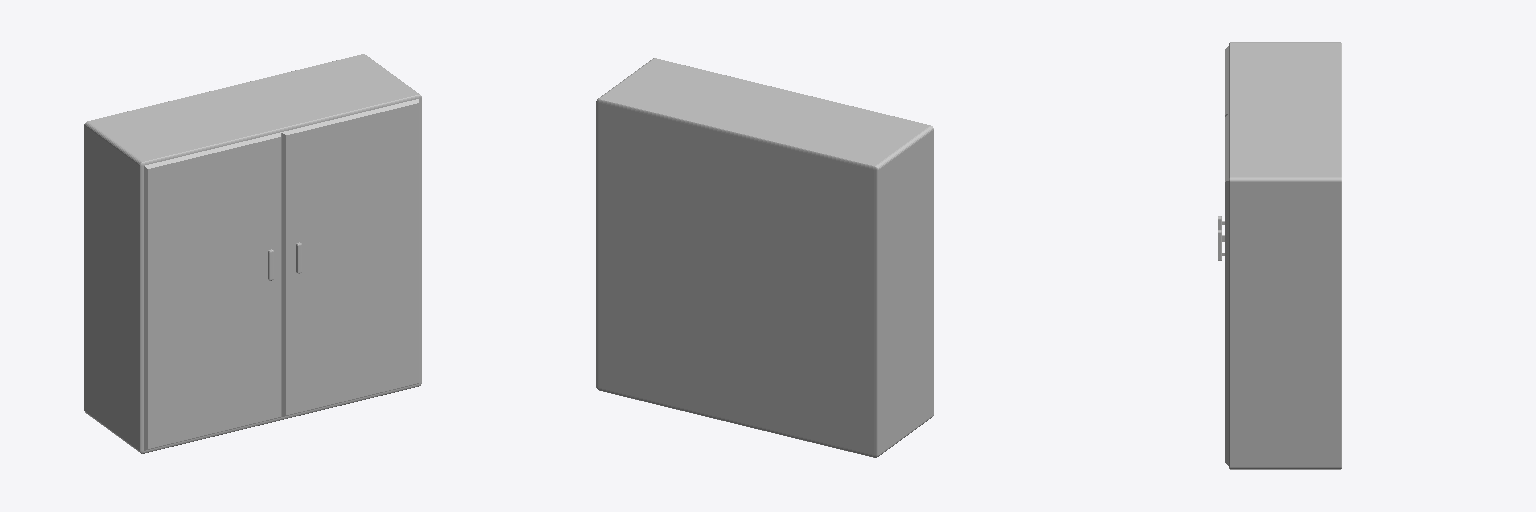
File: shortcupboard.obj
3 views of the same model, side by side, from view 1: azimuth 30°, elevation 25°; view 2: azimuth 150°, elevation 25°; view 3: azimuth 270°, elevation 25° (orthographic).
Parts seen in each view (by area): view 1: 立方体.035; view 2: 立方体.035; view 3: 立方体.035.
Boxes of the visible parts, x1,y1,x2,y2 form: 立方体.035: [84, 54, 421, 453]; 立方体.035: [596, 58, 933, 457]; 立方体.035: [1218, 42, 1341, 469].
Size of the model in its own units: 1.39 by 1.38 by 0.5337.